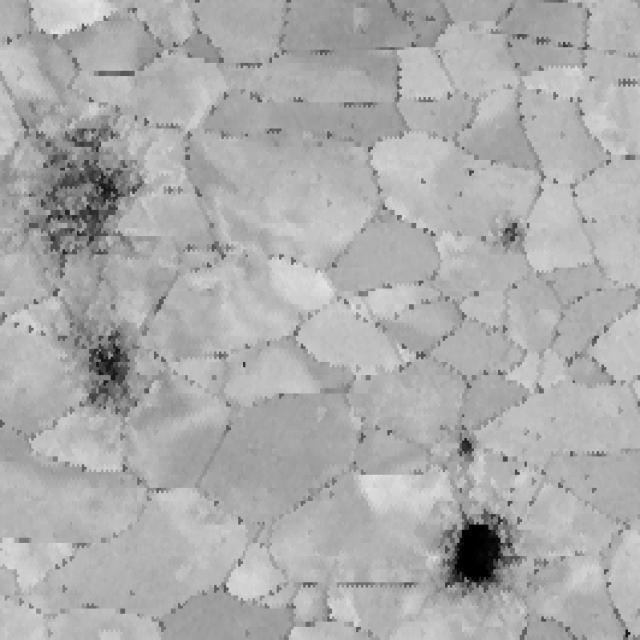good_void: (9, 118, 158, 274), (55, 302, 146, 418), (430, 497, 521, 602), (480, 210, 550, 259), (454, 427, 479, 470), (222, 353, 256, 375), (408, 171, 433, 192), (458, 162, 485, 181)
